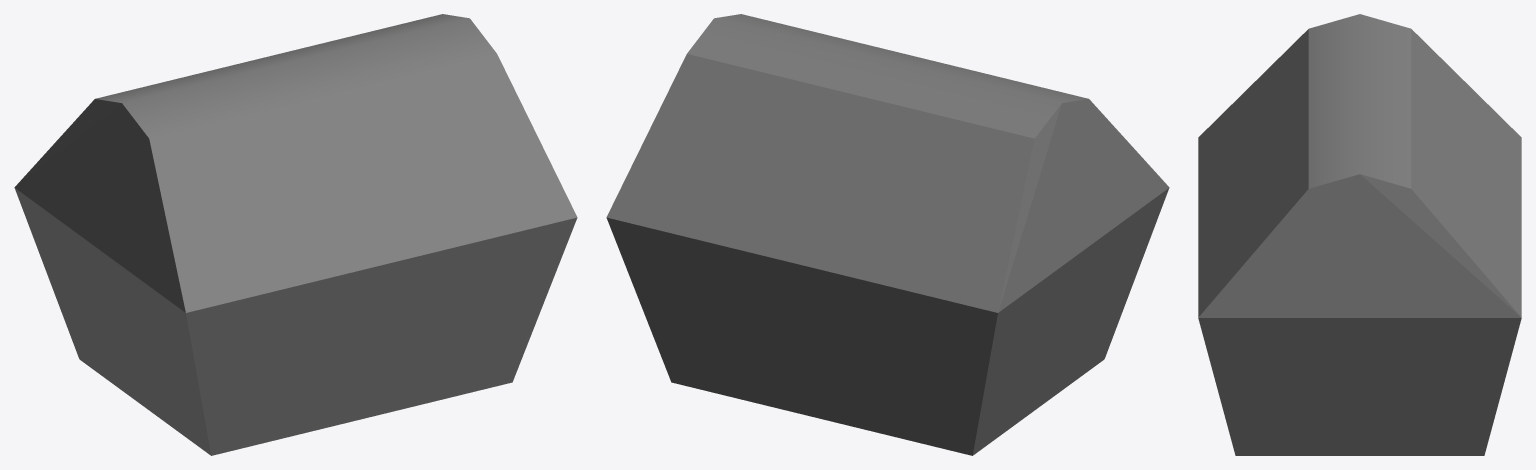
The model's file is map_plain_road13.FBX.
3 renders of one model, left to right at view 1: azimuth 30°, elevation 25°; view 2: azimuth 150°, elevation 25°; view 3: azimuth 270°, elevation 25°, orthographic. The views are drawn at different scales.
Parts seen in each view (by area): view 1: Box01; view 2: Box01; view 3: Box01.
Part boxes in pixels (x1=…): Box01: x1=14, y1=14, x2=577, y2=455; Box01: x1=606, y1=14, x2=1169, y2=455; Box01: x1=1198, y1=14, x2=1521, y2=455.
Bounding box in the file's own units: 3.48 × 2.64 × 2.63.
